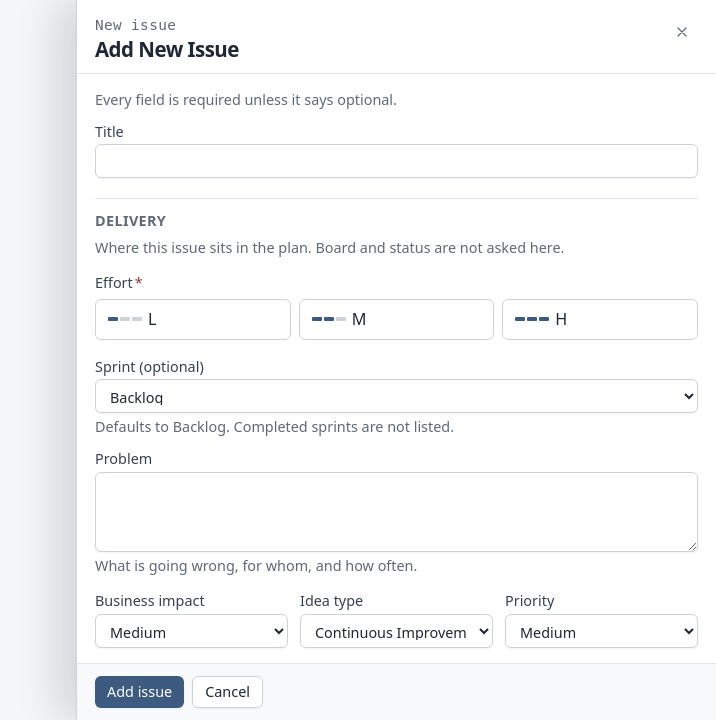
Test: BacklogAdd after a save › confirms a Backlog add with "Issue added" and closes back to the Backlog
Type "Fix the dock door" into the field labelled "Title" at (396,161), box [95,144,698,178]
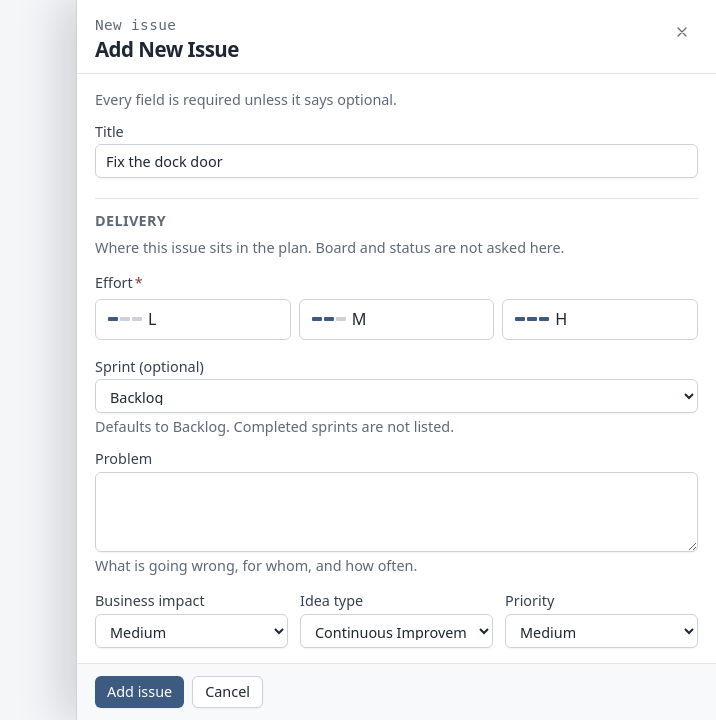
Type "It jams." into the text box labelled "Problem" at (396,512), box [95,472,698,552]
(page scrolled)
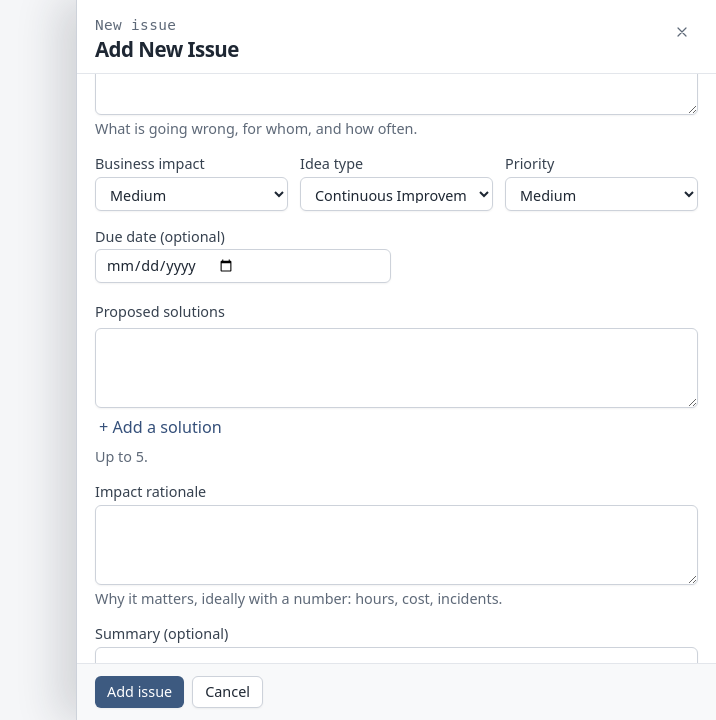
Type "New track" into the text box named "Solution 1" at (396,368), box [95,328,698,408]
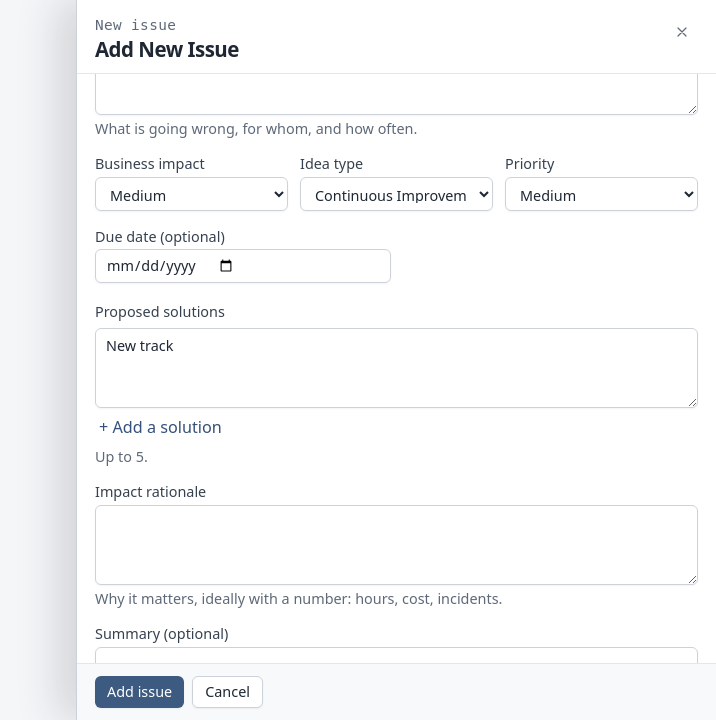
Type "Hours." into the text box labelled "Impact rationale" at (396,545), box [95,505,698,585]
(page scrolled)
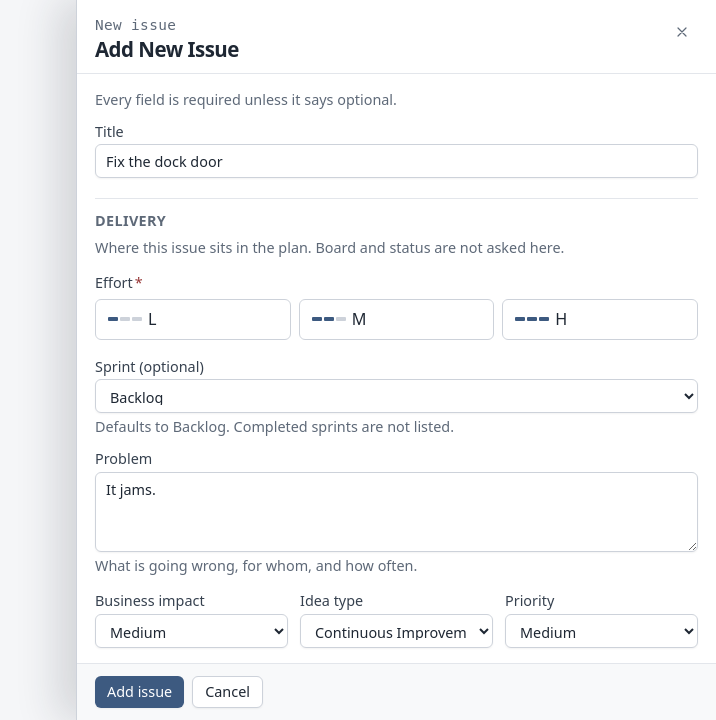
Click the radio button named "Low effort" at (193,319), box [95,299,291,340]
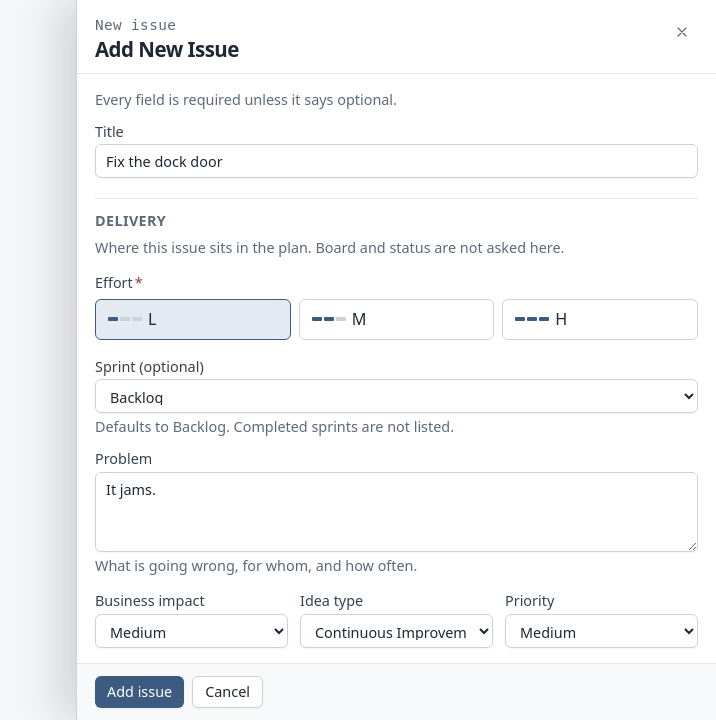
Click the button "Add issue" at (140,692), box [95,676,184,708]
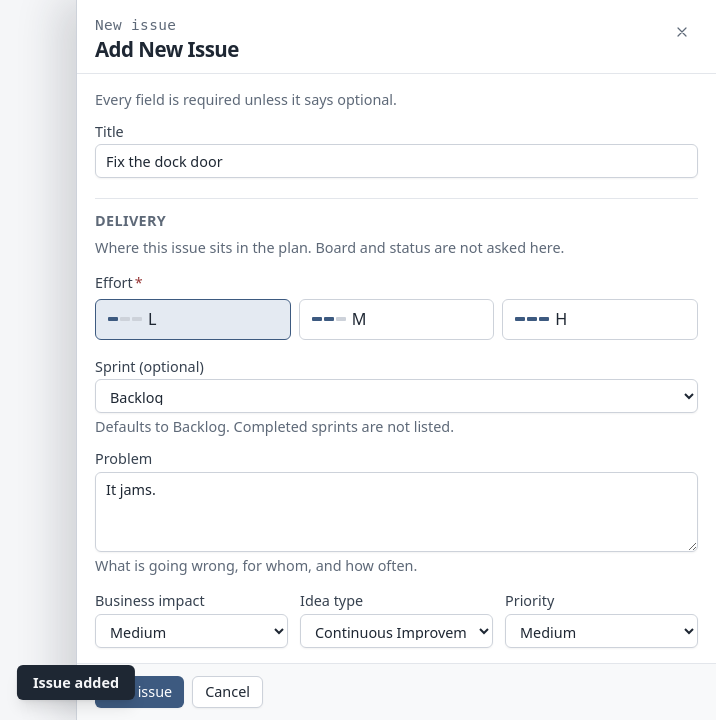
Result: the text "Issue added" is shown at [17,665,135,700]
